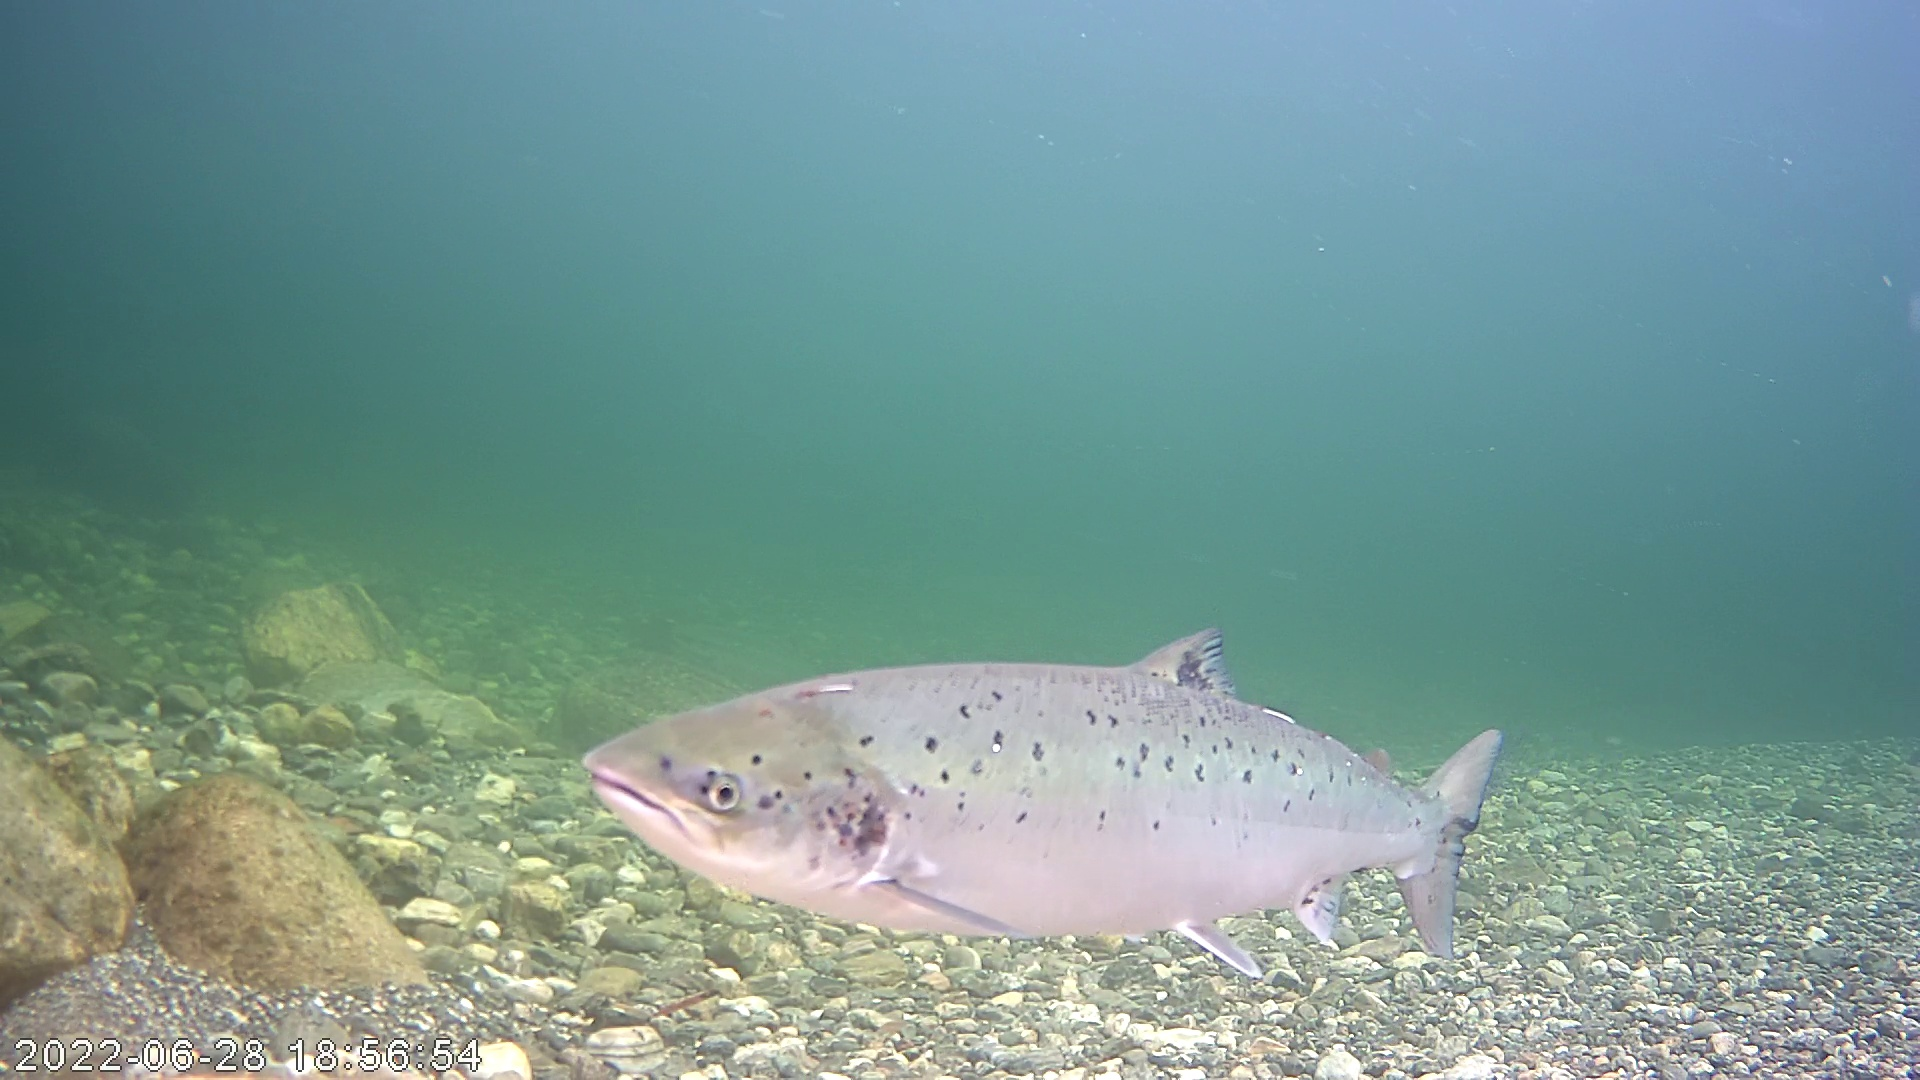salmon: (585, 574, 1523, 960)
